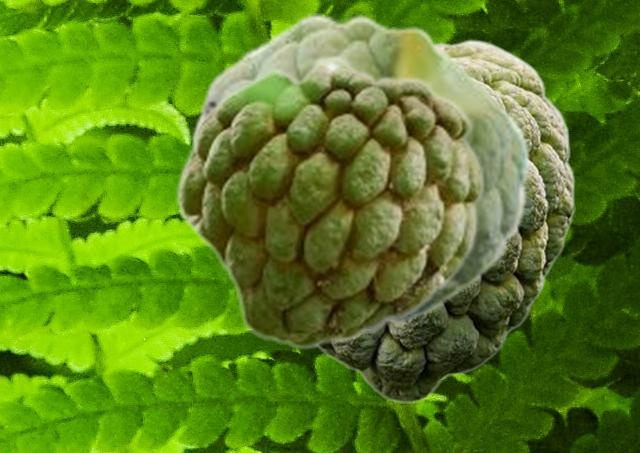atis: (191, 13, 532, 332), (318, 38, 574, 402), (173, 53, 485, 349)
